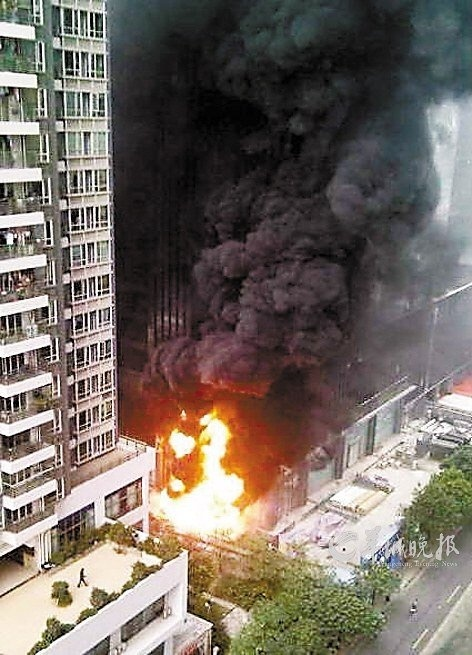fire: (155, 408, 245, 536)
